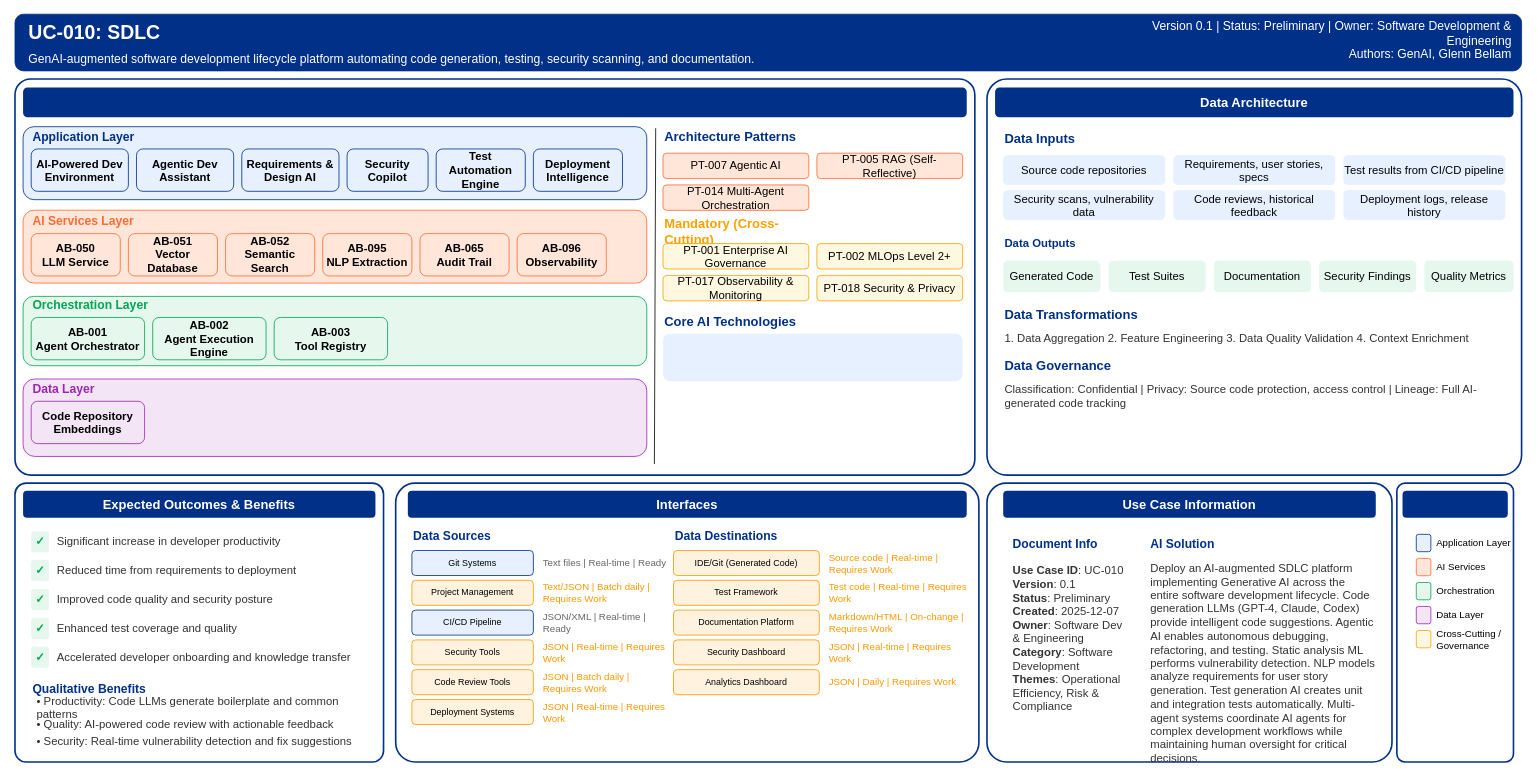
Some shapes in this 1537 by 778 pixel diagram are drawn without their labels. The centre of each missing label's shape, as x and y in pixels:
"GPT-4/Claude/Codex | Multi-Agent Systems | Static Analysis ML | NLP/NER" belongs at [812,357].
"Legend" belongs at [1454,503].
"Solution" belongs at [494,102].
